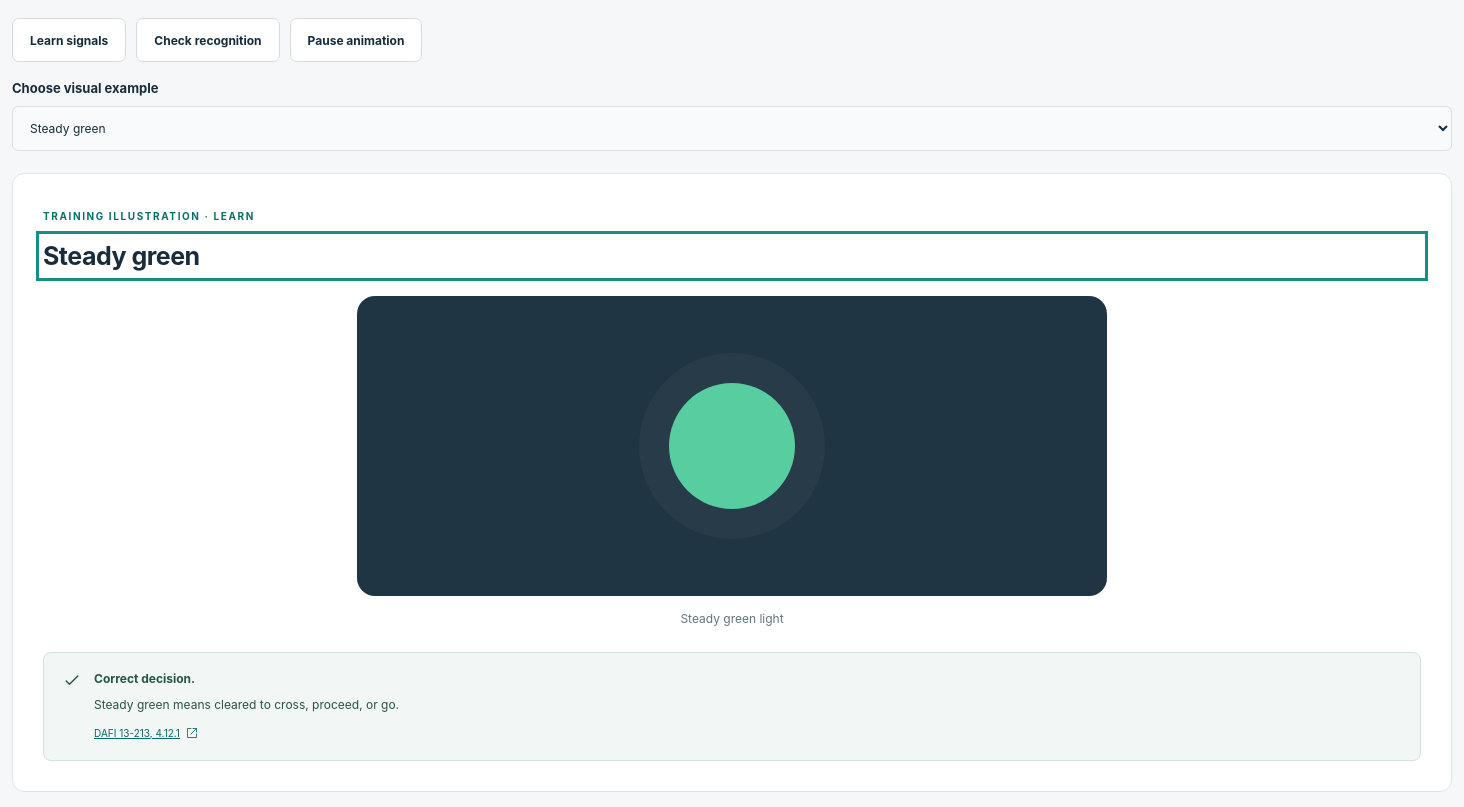
Test: paused flashing signals keep a static pattern description
Select "Flashing red" in the dropdown labelled "Choose visual example" at [732, 128], box [12,106,1452,151]
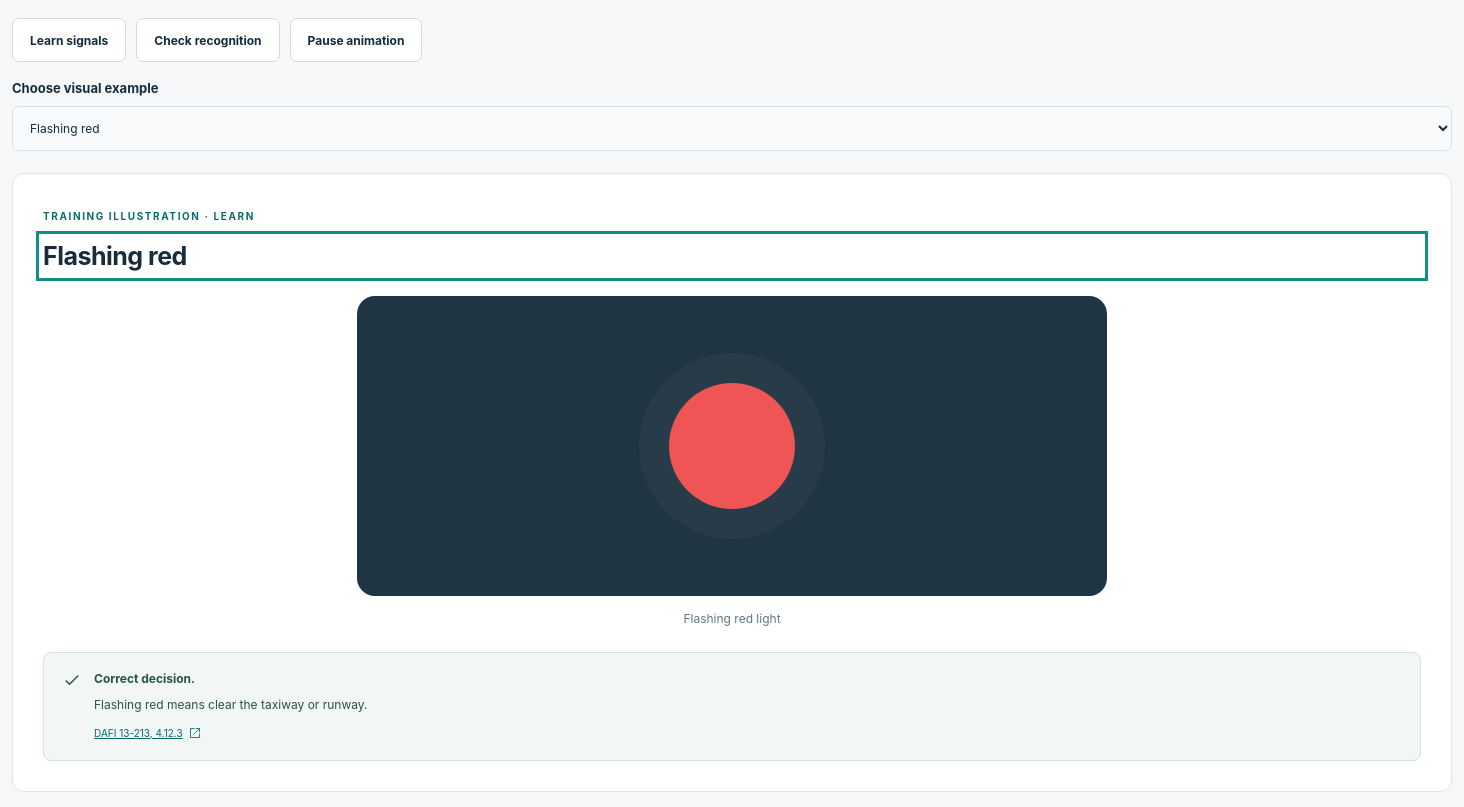
Click the button "Pause animation" at [356, 40], box [290,18,422,62]
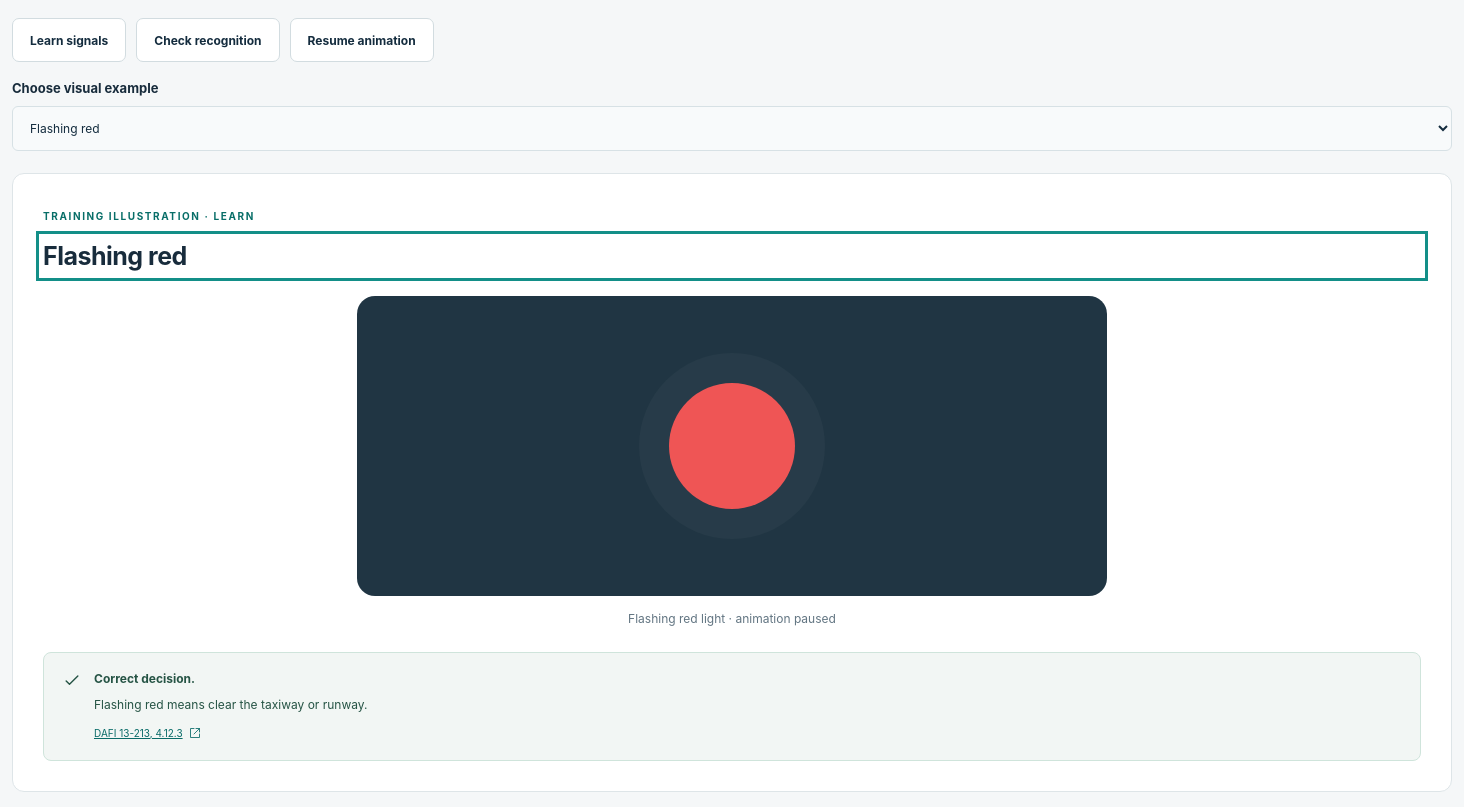
Expected: the text "Flashing red light · animation paused" is shown, [628,611,836,626]
